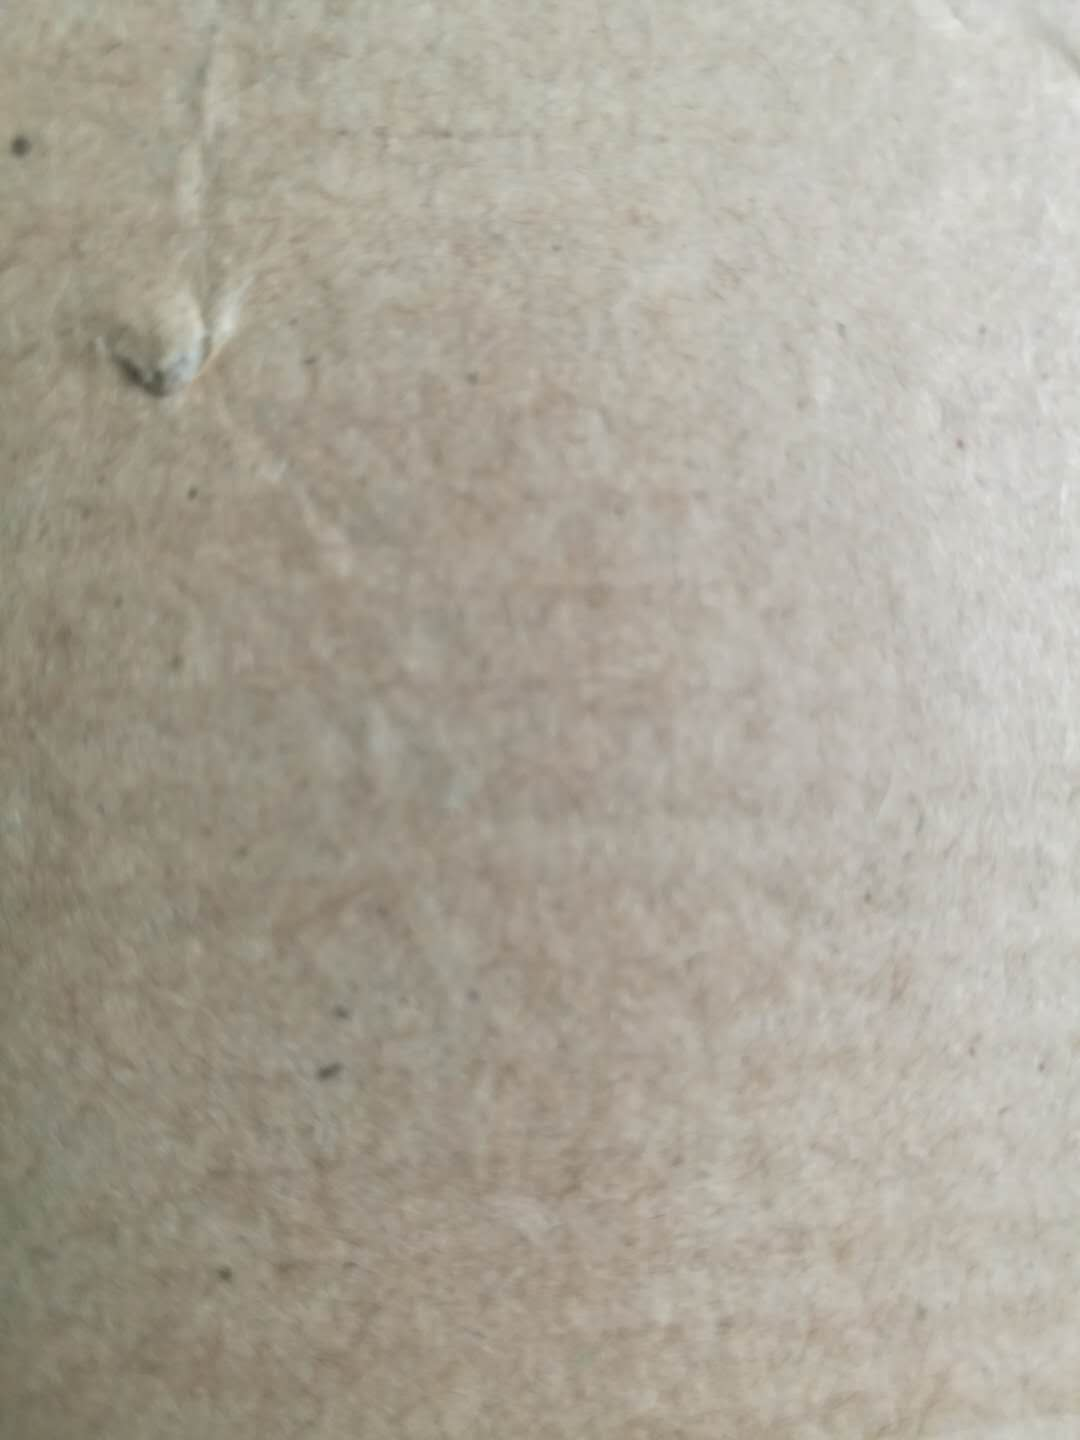defect: (62, 230, 272, 422)
